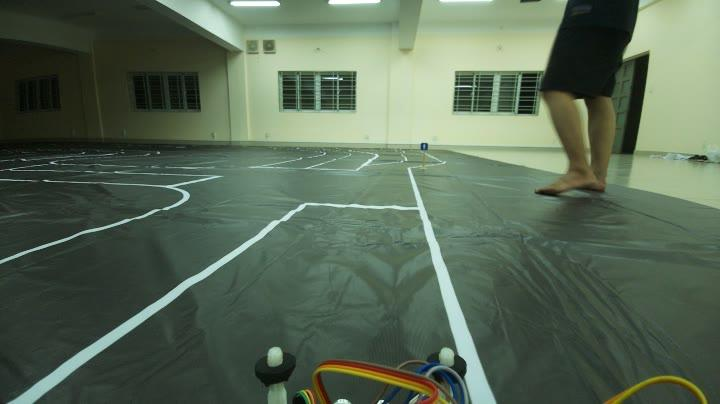onewayroad: (419, 138, 430, 152)
